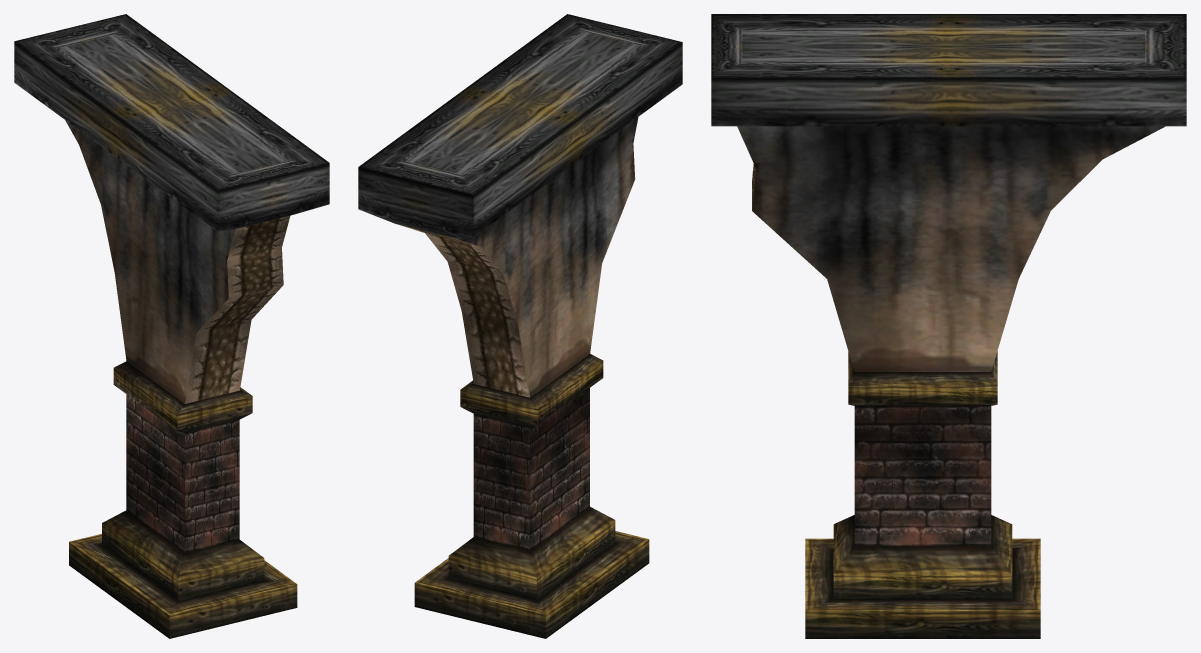
Rendered from CB_BRKNC1.fbx.
The picture shows the model from 3 angles, left to right: view 1: azimuth 30°, elevation 25°; view 2: azimuth 150°, elevation 25°; view 3: azimuth 270°, elevation 25°; orthographic projection. The views are drawn at different scales.
Visible parts, largest first — view 1: CB_BRKNC1; view 2: CB_BRKNC1; view 3: CB_BRKNC1.
Boxes of the visible parts, <box> form: CB_BRKNC1: <box>14,14,329,638</box>; CB_BRKNC1: <box>358,14,682,638</box>; CB_BRKNC1: <box>711,14,1186,638</box>.
Size of the model in its own units: 25219 by 89814 by 69557.
5 materials, 5 textured.
